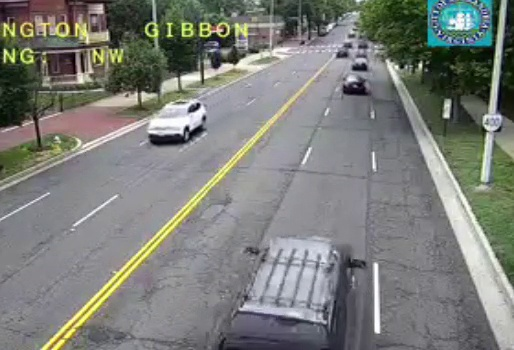car: (227, 236, 347, 350), (342, 75, 365, 95)
